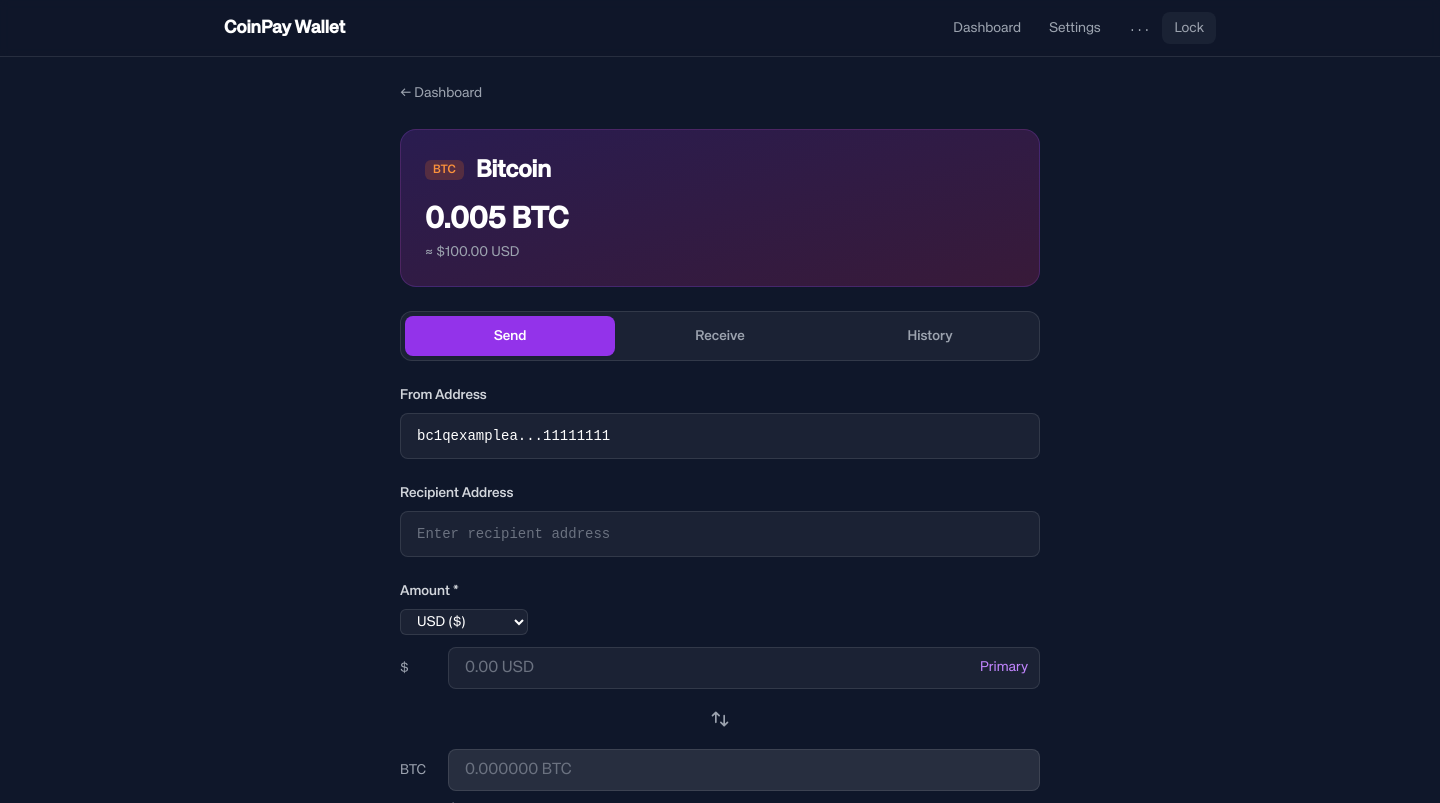
Test: AssetDetailPage - Send Tab - Dual Input System › should calculate crypto amount when typing in fiat input
The image size is (1440, 803).
Expected: the dropdown named "From address" is shown, [400,413,1040,459]
Type "1000" into the number field with placeholder "0.00 USD" at [744, 668], box [448,647,1040,689]
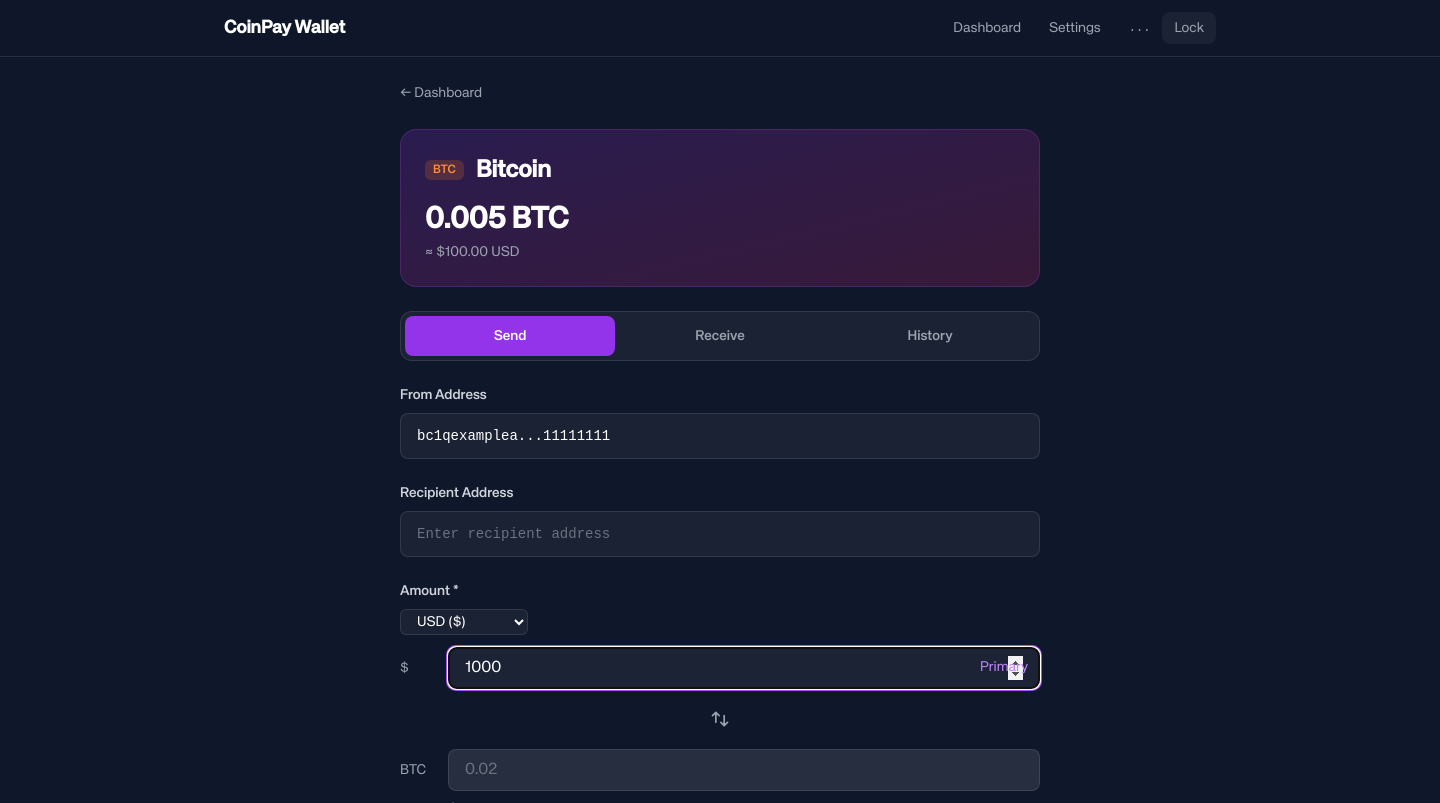
Result: the 2nd number field with placeholder "0.000000 BTC" holds "0.02" at [448,749,1040,791]
